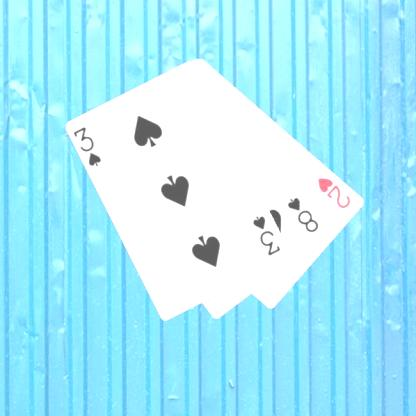2H: (315, 174, 353, 211)
3S: (70, 124, 103, 168), (250, 213, 282, 257)
8S: (284, 194, 320, 234)
